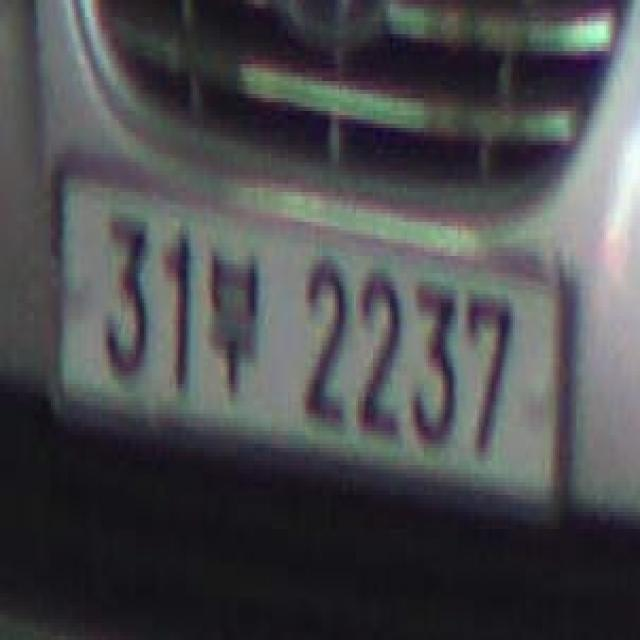1: (157, 226, 197, 397)
2: (352, 264, 400, 443), (299, 260, 347, 427)
3: (101, 214, 152, 388), (409, 273, 458, 452)
7: (466, 290, 517, 457)
bu: (208, 239, 258, 401)
license_plate: (57, 166, 566, 529)
